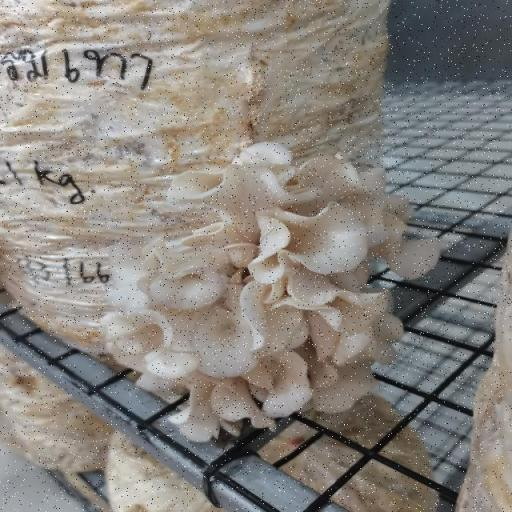White Oyster Mushroom: (100, 141, 441, 441)
